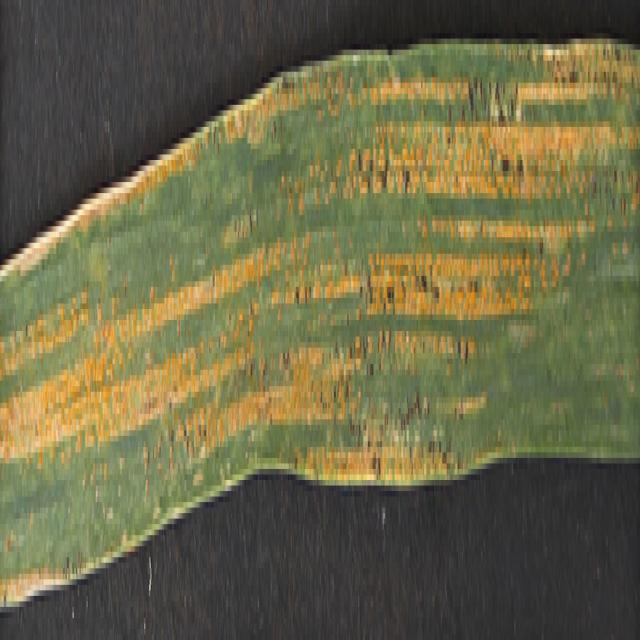leaf rust: (1, 22, 638, 557)
